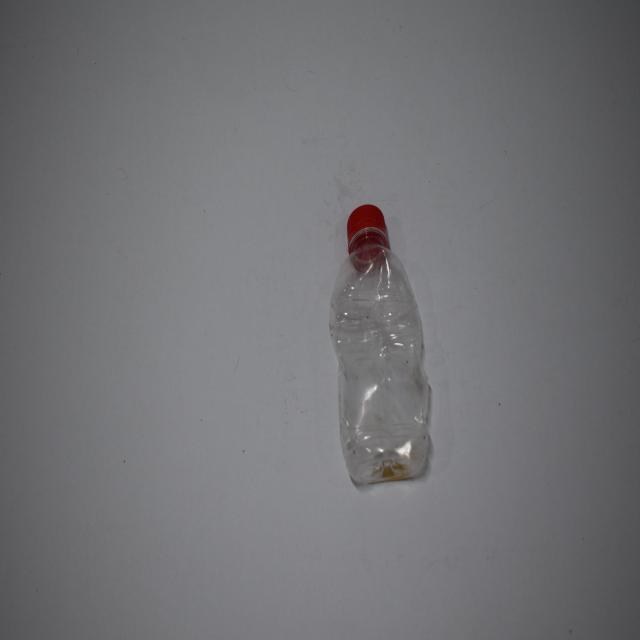empty: (329, 205, 429, 483)
